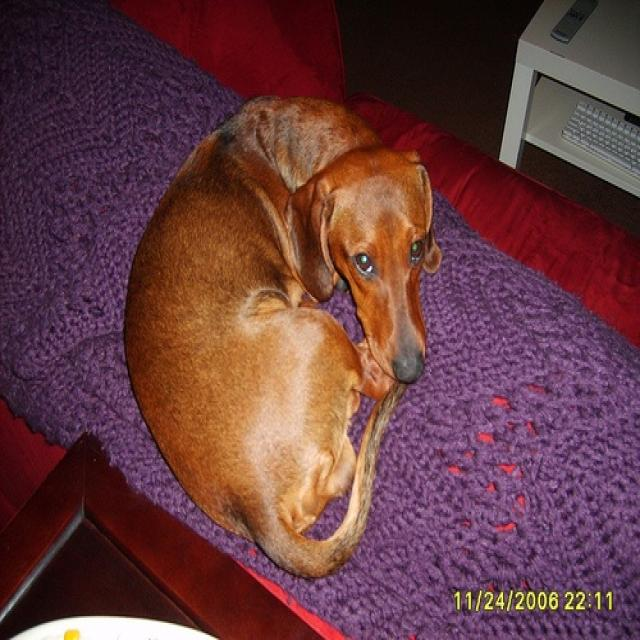dog: (124, 92, 443, 579)
